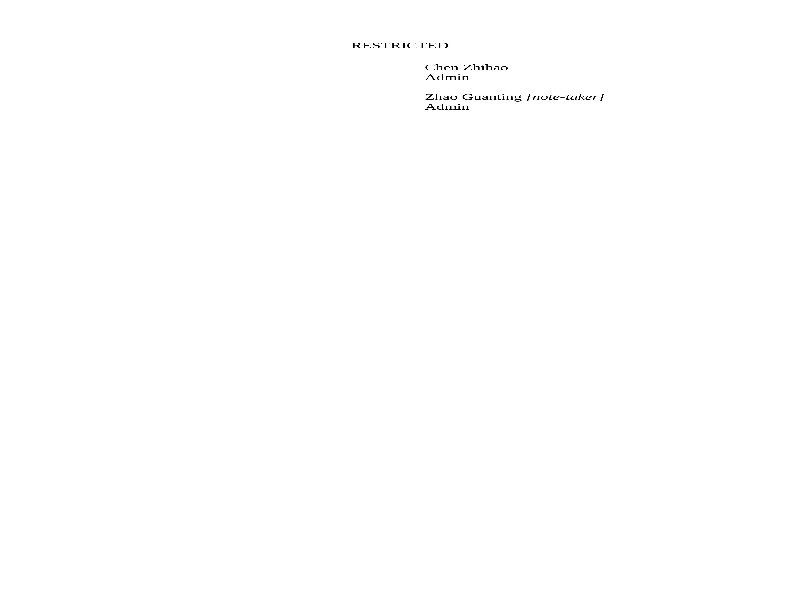cell: (417, 89, 608, 120), (418, 59, 514, 86)
